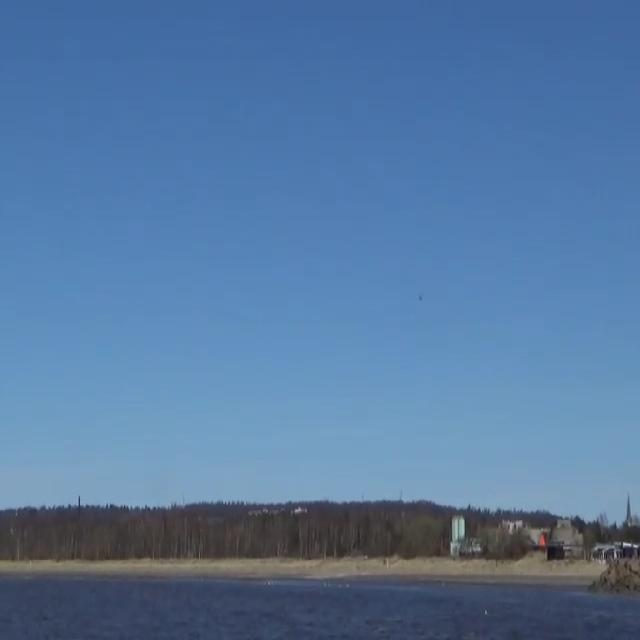Helicopter: (408, 280, 433, 315)
